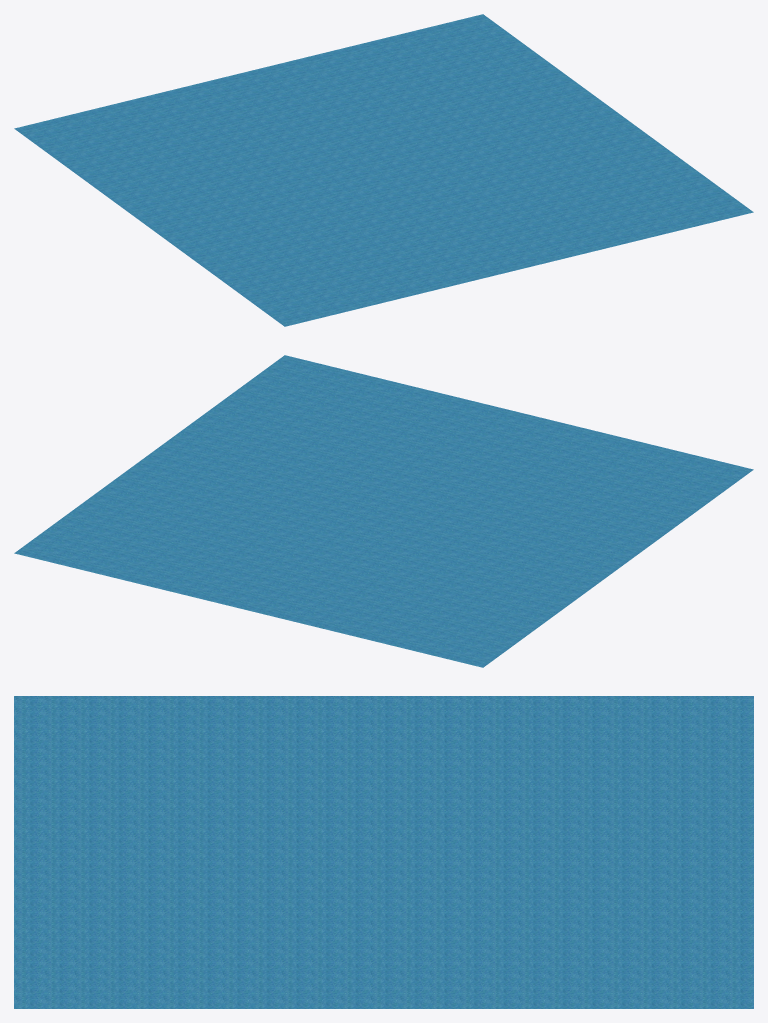
Rendered from Wave.FBX.
3 views of the same model, one above another, from view 1: azimuth 30°, elevation 25°; view 2: azimuth 150°, elevation 25°; view 3: azimuth 270°, elevation 25° (orthographic). The views are drawn at different scales.
Parts seen in each view (by area): view 1: Wave; view 2: Wave; view 3: Wave.
Part boxes in pixels (x1,y1,x2,y2): Wave: (14,14,753,326); Wave: (14,355,753,667); Wave: (14,696,753,1008).
Bounding box in the file's own units: 95 × 4.15e-06 × 95.
